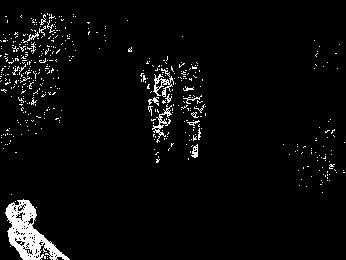person: (4, 198, 72, 260)
